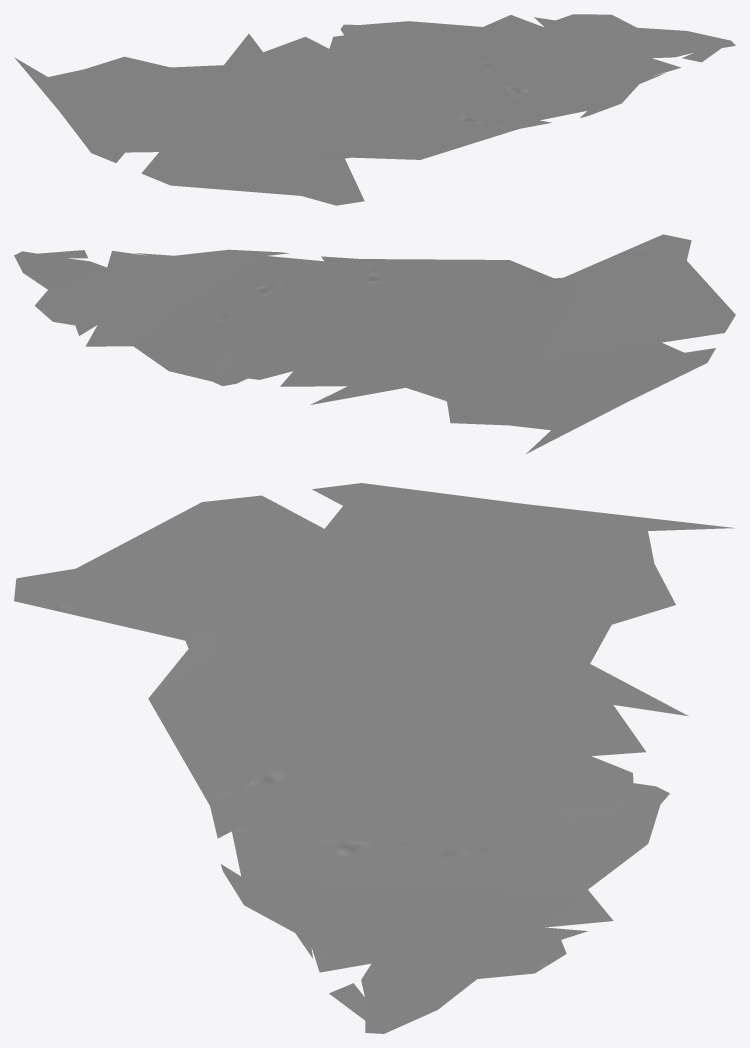
Rendered from Tile_+006_+004_L19_0uuuu0.glb.
3 views of the same model, one above another, from view 1: azimuth 30°, elevation 25°; view 2: azimuth 150°, elevation 25°; view 3: azimuth 270°, elevation 25° (orthographic). The views are drawn at different scales.
Visible parts, largest first — view 1: rtc; view 2: rtc; view 3: rtc.
Boxes of the visible parts, x1,y1,x2,y2 form: rtc: (14,14,735,205); rtc: (14,234,735,453); rtc: (14,483,734,1033).
Bounding box in the file's own units: 14.61 × 1.11 × 9.4.
2 materials, 2 textured.
